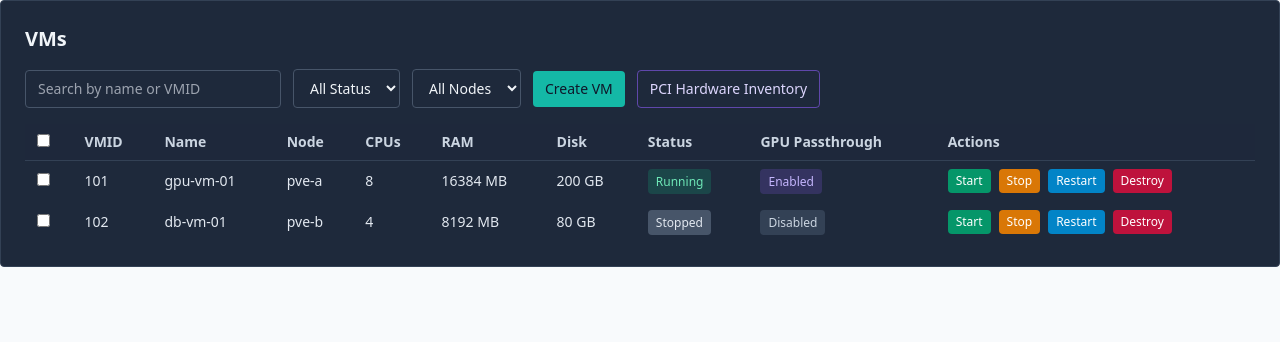
Test: VmListPage › row checkbox and header select-all toggle selection
Click the checkbox with test id "checkbox-vm-101": (44, 180) x1=37 y1=173 x2=50 y2=186
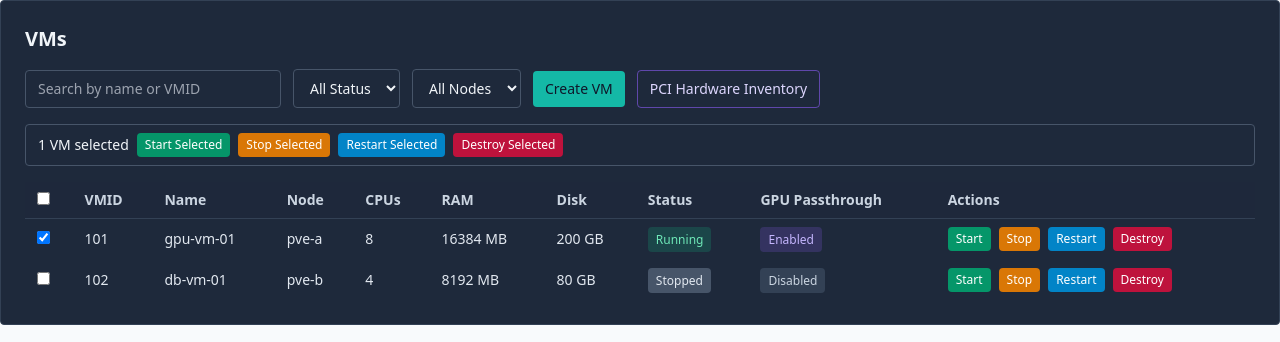
Now the checkbox with test id "checkbox-vm-101" is checked, box x1=37 y1=231 x2=50 y2=244
Click the checkbox with test id "checkbox-select-all-vms": (44, 198) x1=37 y1=192 x2=50 y2=205
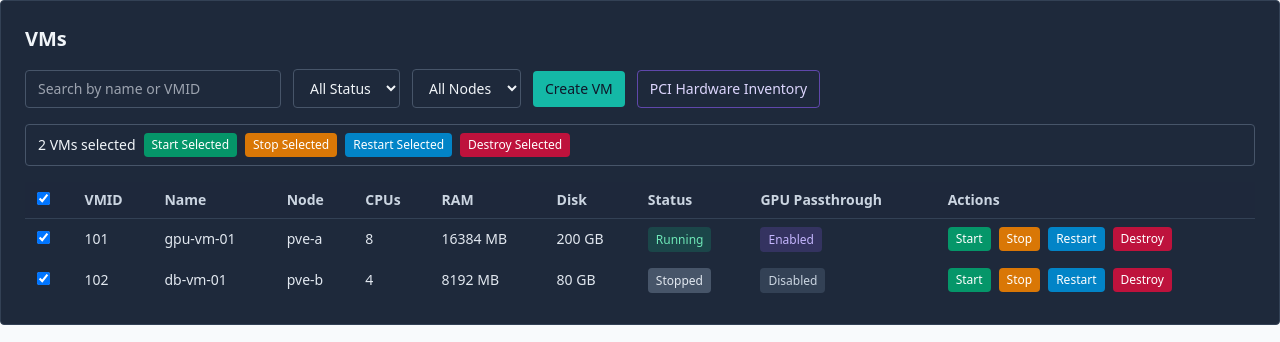
Now the checkbox with test id "checkbox-select-all-vms" is checked
Now the checkbox with test id "checkbox-vm-102" is checked, box x1=37 y1=272 x2=50 y2=285
Click the checkbox with test id "checkbox-select-all-vms": (44, 198) x1=37 y1=192 x2=50 y2=205
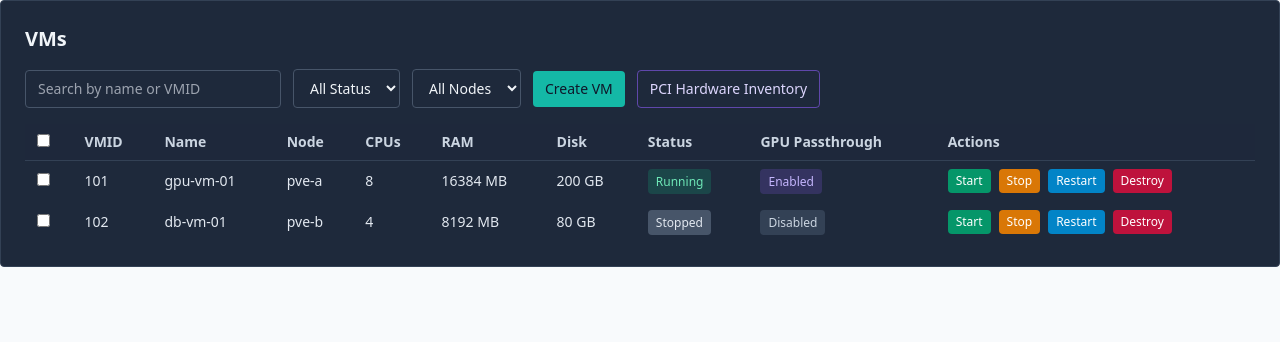
Now the checkbox with test id "checkbox-vm-101" is not checked, box x1=37 y1=173 x2=50 y2=186
Now the element with test id "batch-action-bar" is gone
